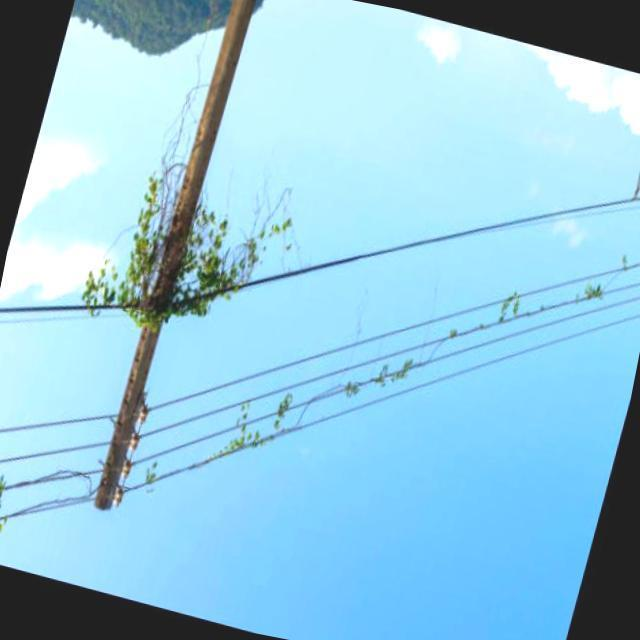critical vegetation: (40, 67, 292, 554), (70, 152, 281, 386)
